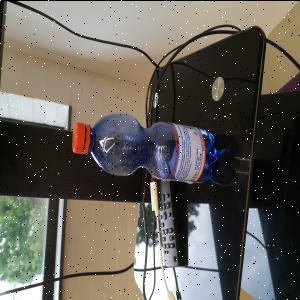Plastic-bottle: (72, 112, 221, 185)
